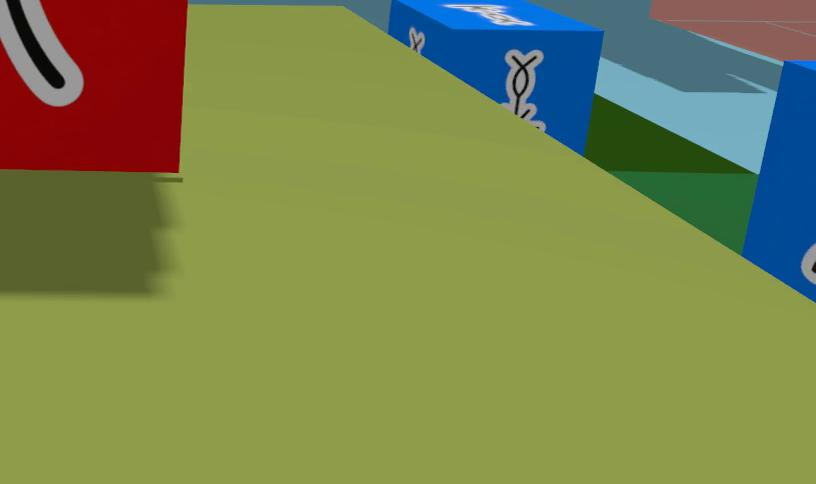KFS_FAKE: (0, 0, 189, 172), (0, 0, 82, 106)
KFS_REAL: (387, 0, 603, 150), (743, 60, 815, 300), (506, 50, 545, 130)
